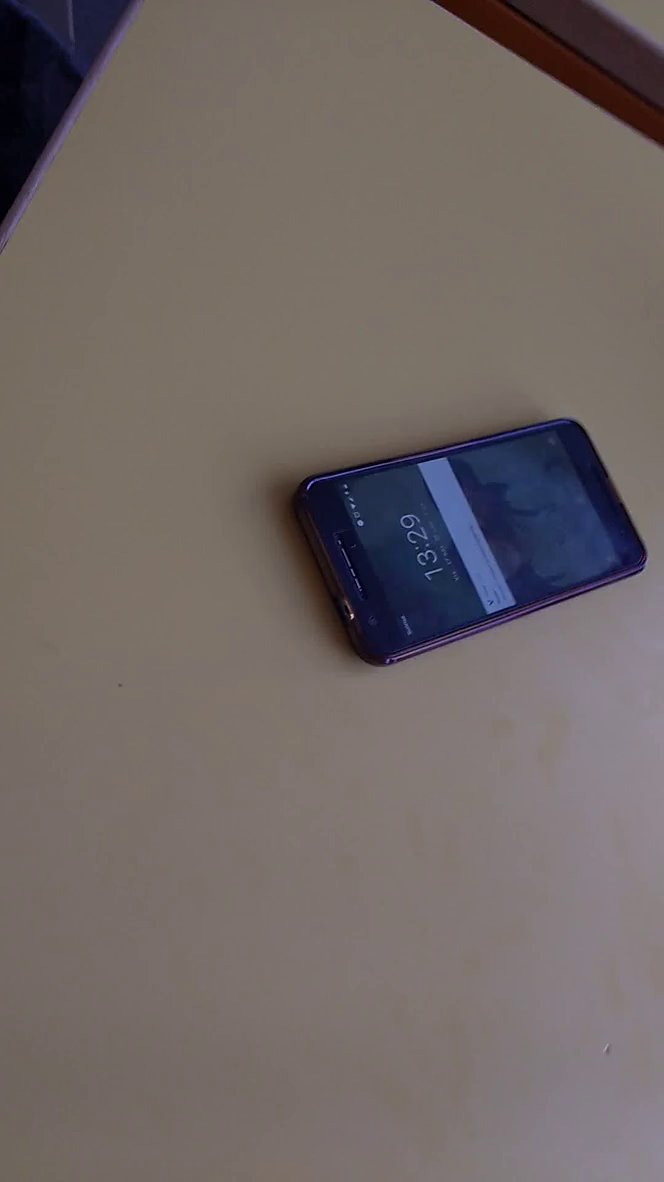phone: (288, 397, 655, 679)
